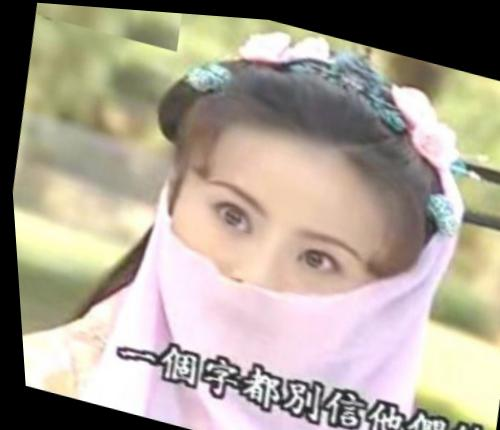WRONG: (142, 138, 389, 398)
